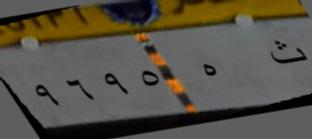5: (139, 66, 160, 92)
6: (64, 76, 94, 107)
9: (102, 68, 129, 104), (32, 80, 61, 113)
haa: (199, 60, 219, 85)
thaa: (265, 34, 308, 72)
